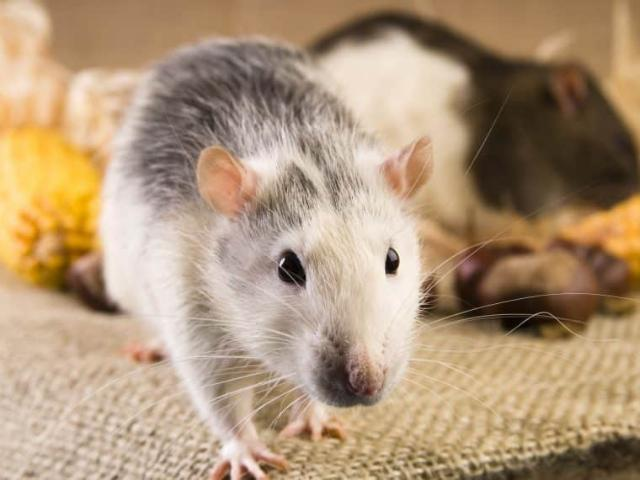rat: (87, 31, 447, 479)
